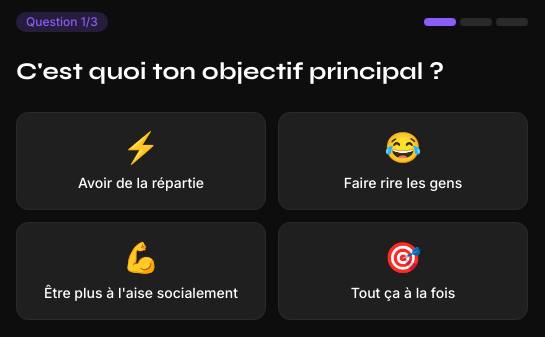
Test: HumorQuiz › advances to question 3 after second answer
Click the text "Avoir de la répartie" at (141, 183), box [78,173,204,193]
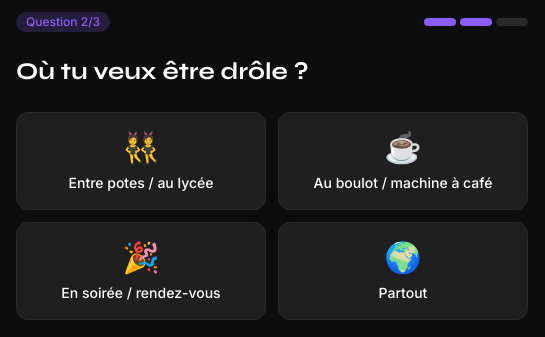
Click the text "Entre potes / au lycée" at (141, 183), box [68,173,213,193]
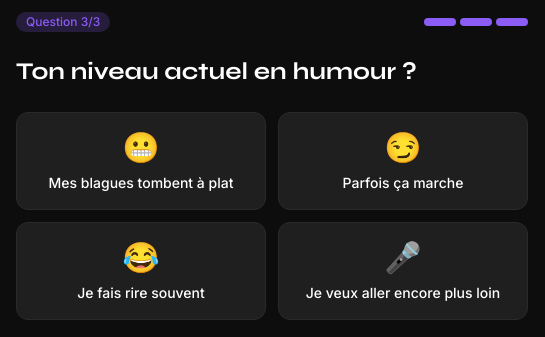
Check: the heading "Ton niveau actuel en humour ?" is shown, box [16,57,417,86]
Check: the text "Question 3/3" is shown, box [16,12,110,32]
